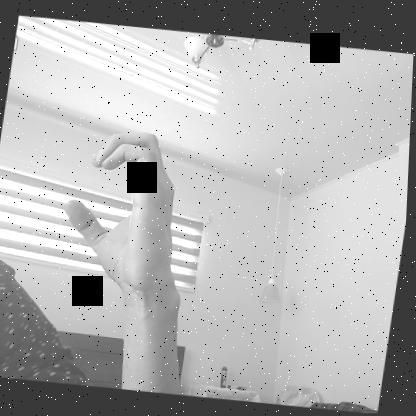C: (54, 126, 200, 294)
